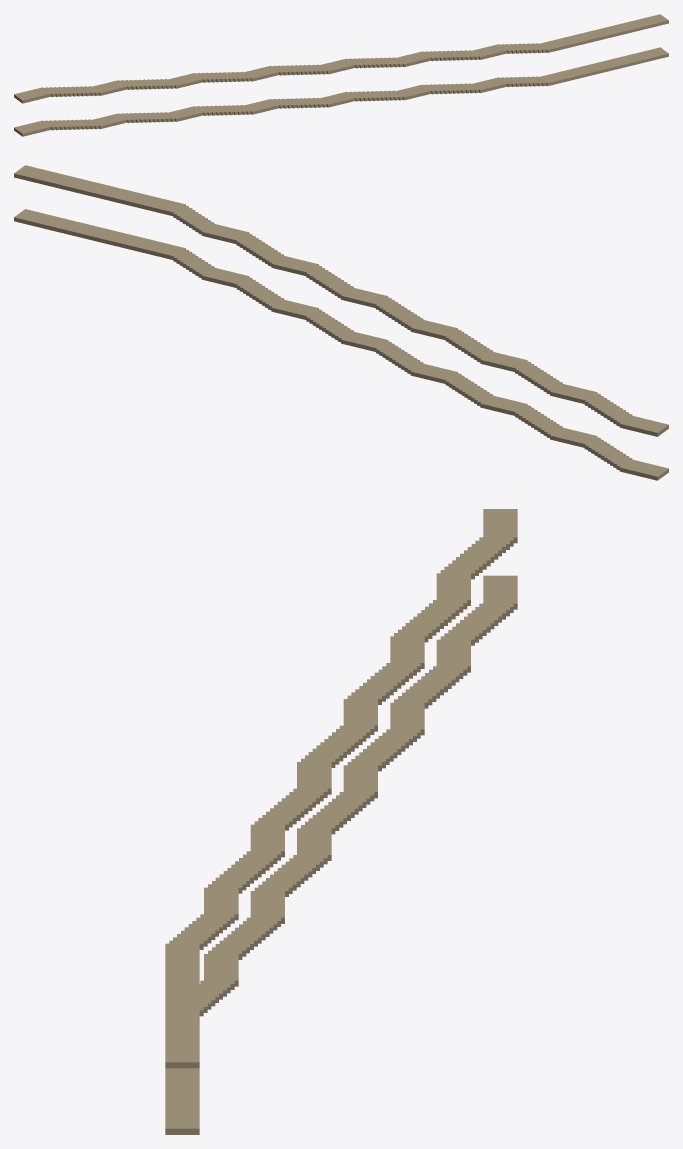
File: KotelApproach_ElevatedGuards_V2.obj
3 renders of one model, top to bottom at view 1: azimuth 30°, elevation 25°; view 2: azimuth 150°, elevation 25°; view 3: azimuth 270°, elevation 25°, orthographic. The views are drawn at different scales.
Visible parts, largest first — view 1: KotelApproach_ElevatedGuards_V2; view 2: KotelApproach_ElevatedGuards_V2; view 3: KotelApproach_ElevatedGuards_V2.
Boxes of the visible parts, x1,y1,x2,y2 form: KotelApproach_ElevatedGuards_V2: (14,14,668,136); KotelApproach_ElevatedGuards_V2: (14,165,668,480); KotelApproach_ElevatedGuards_V2: (165,509,517,1134).
Size of the model in its own units: 59 by 3.6 by 15.87.
